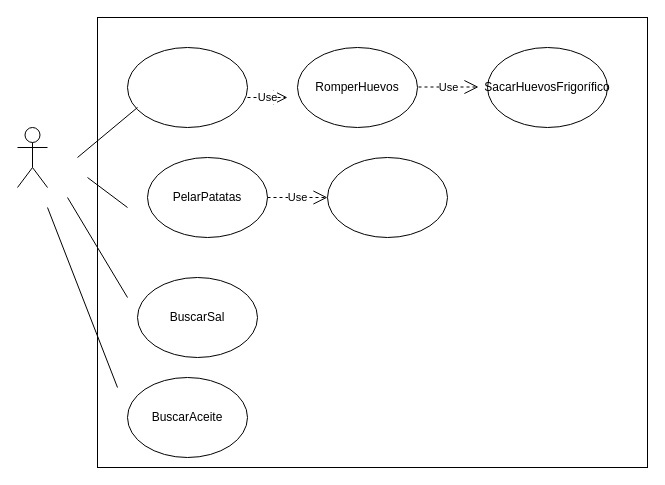
Some shapes in this 665 by 485 pixel diagram are drawn without their labels. Here are the shapes that lost their labels. From the top down, the centre of each, then its label:
At point 187,87: "Batir Huevos".
At point 32,157: "Actor".
At point 387,197: "SacarPatatas".
